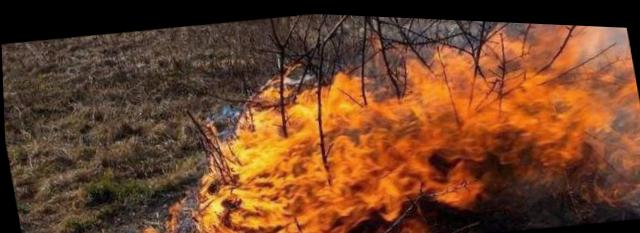fire: (104, 3, 639, 231)
